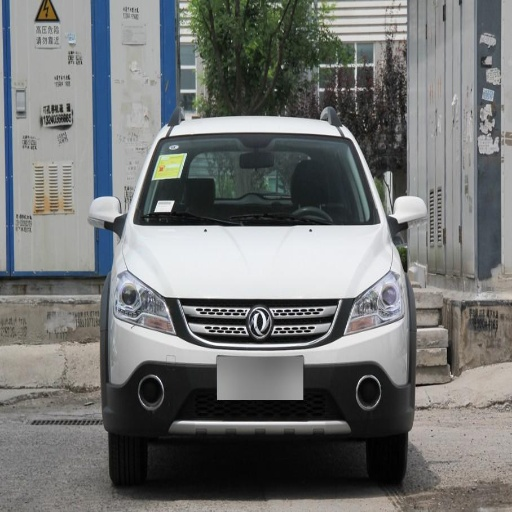front_bumper: (103, 297, 412, 437)
front_right_light: (111, 271, 175, 334)
hood: (124, 224, 392, 299)
